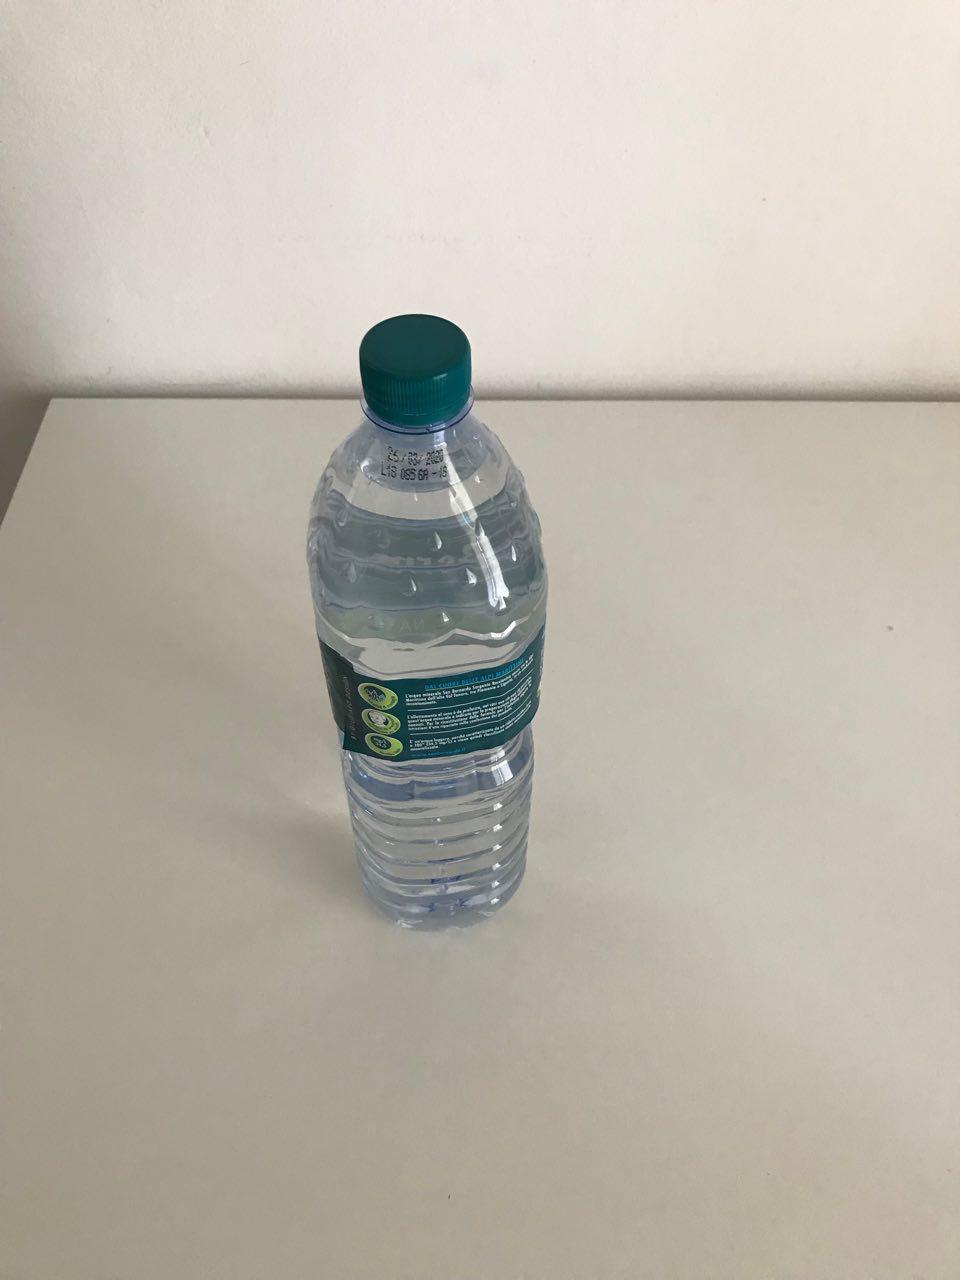san_bernardo: (303, 312, 548, 933)
